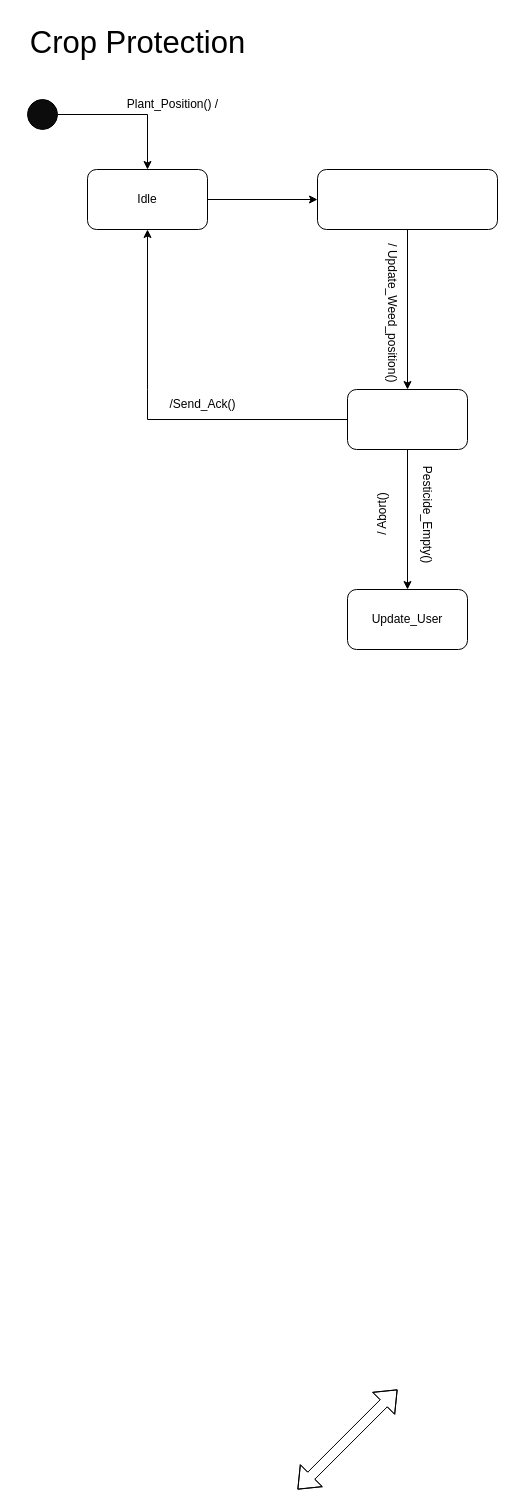
Some shapes in this 515 by 1507 pixel diagram are drawn without their labels. The shapes that lost their labels are listed below. From the top down, each one's box as (x1, y1, x2, y2) in pixels, then its label:
(316, 168, 498, 230): Select_Diseased_crop
(346, 388, 468, 450): Spray_Pesticide()
